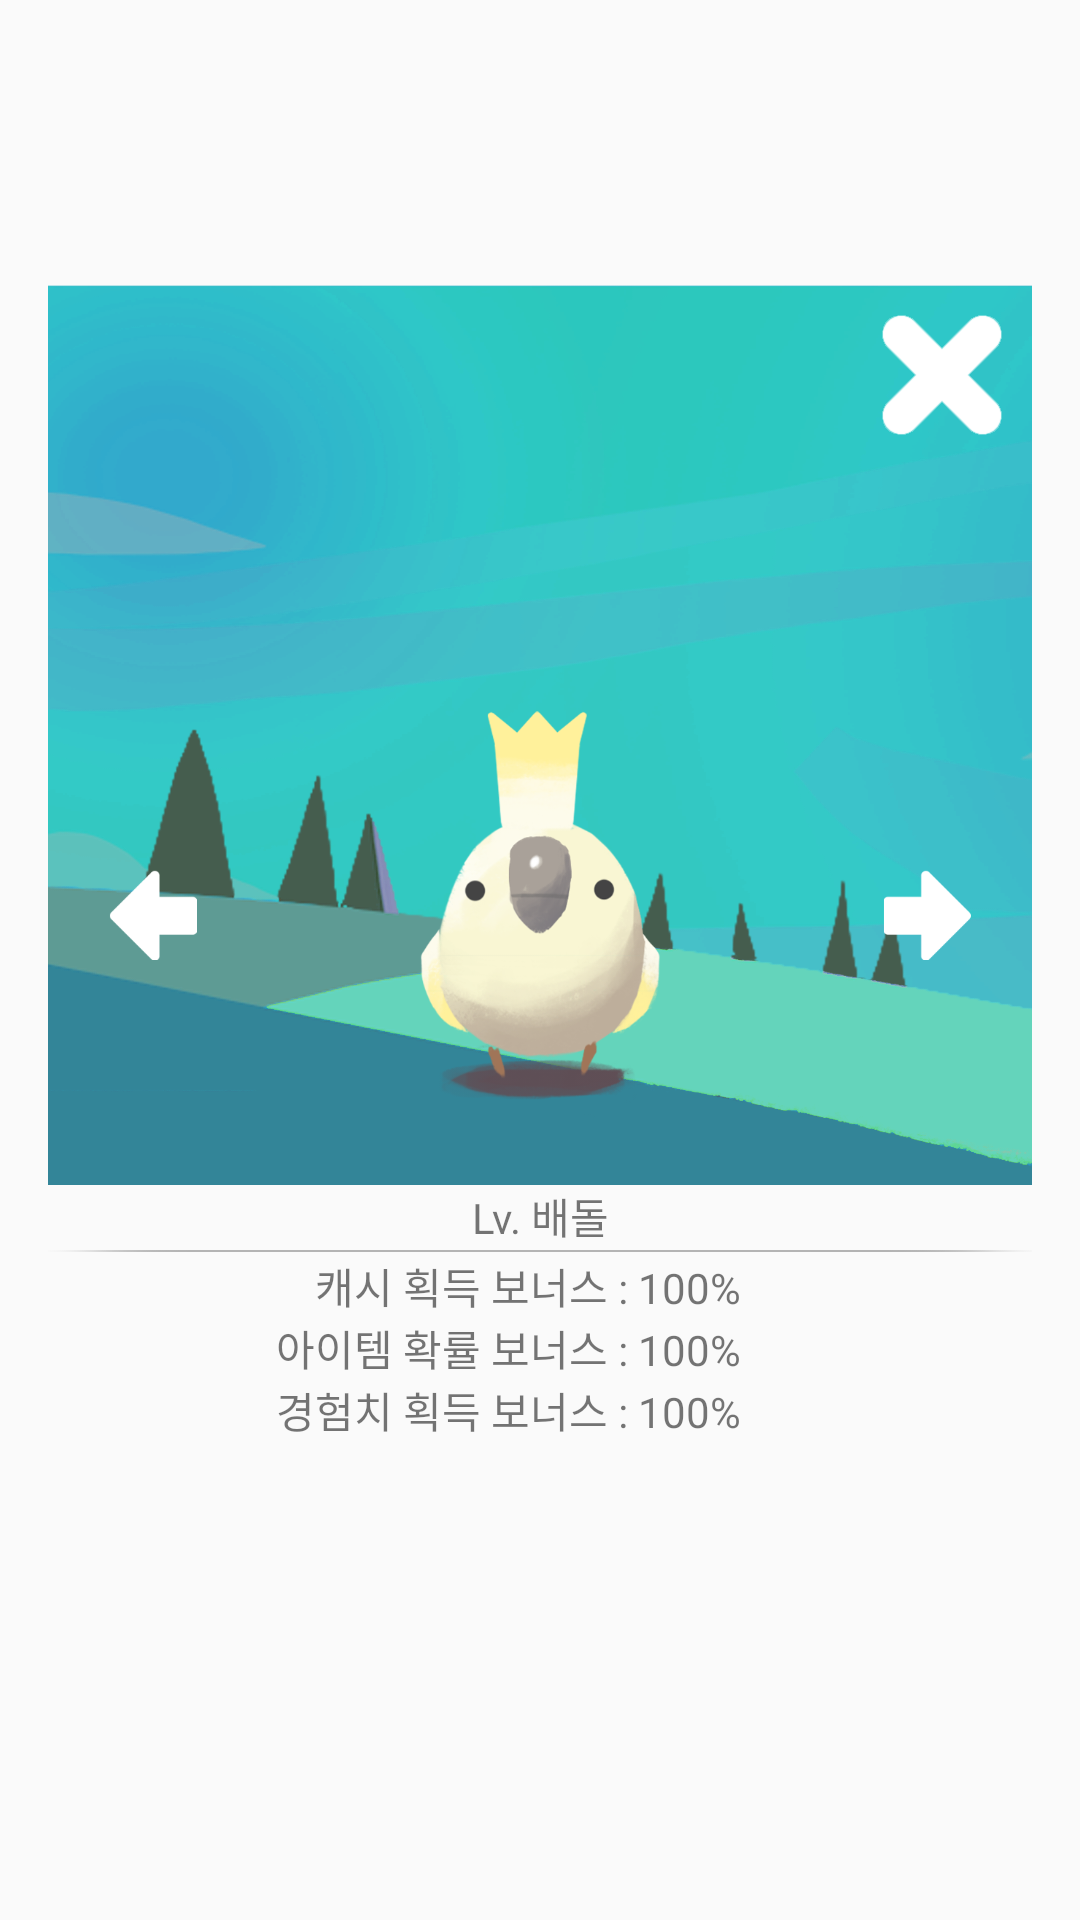

Where to tap for icons on this 1080x1920 app screen, as (x=x, y=y):
charsel back: (x=153, y=915)
charsel forward: (x=926, y=915)
popupbox close: (x=942, y=375)
